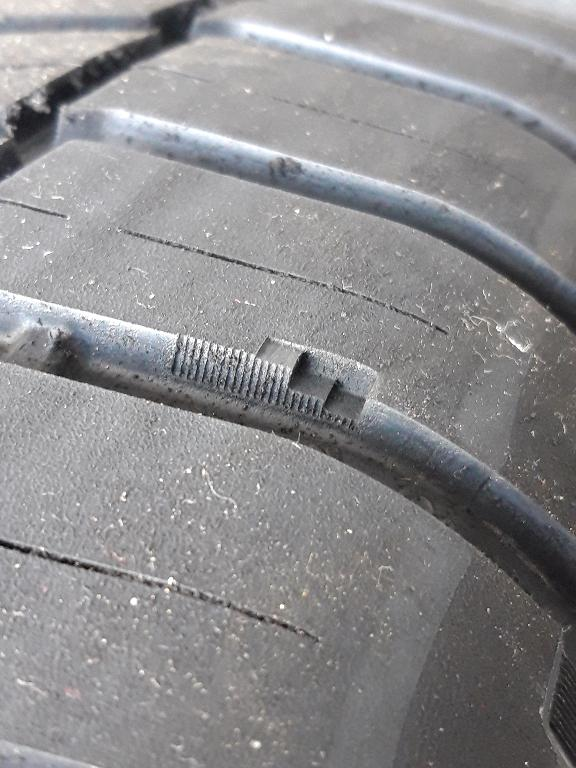temoin:50: (242, 332, 386, 443)
